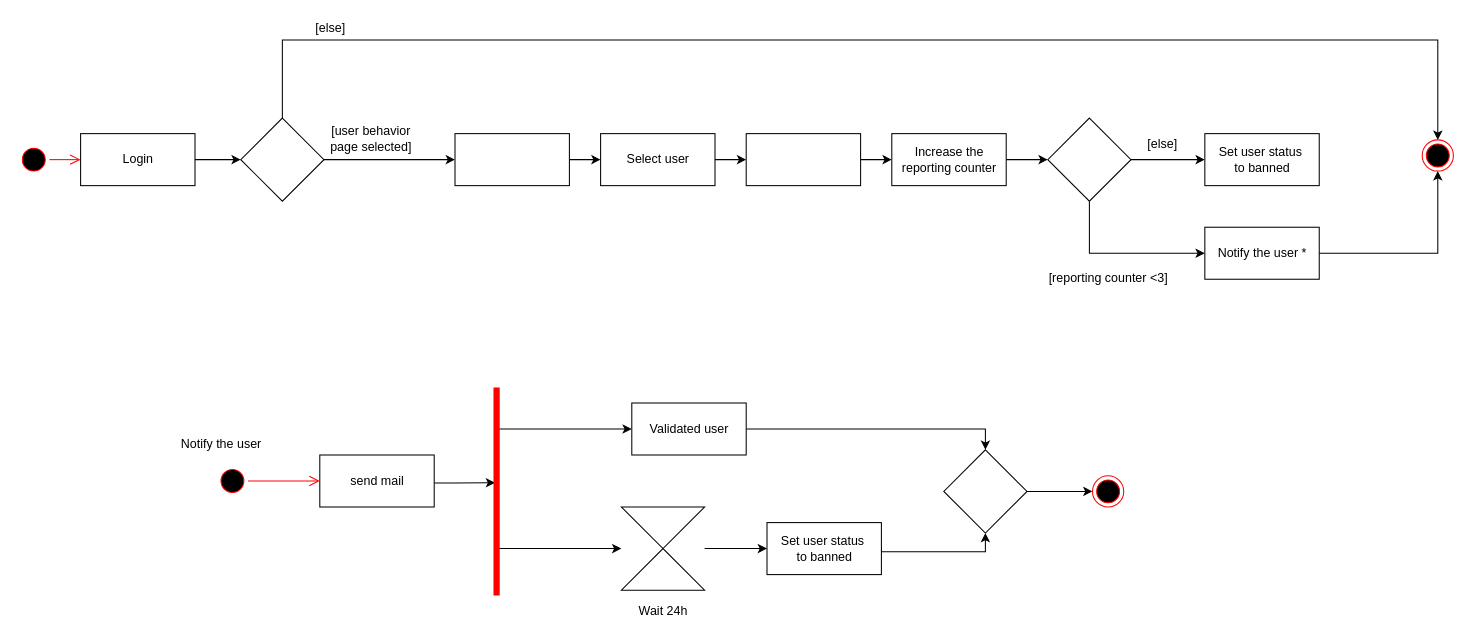
This 1472x639 diagram has some shape labels left out. The shapes that lost their labels are listed below. From the top down, each one's centre as x and y in pixels, then its label:
At [511,159]: "Ask system to show user behavior page".
At [803,159]: "User segnalation".
